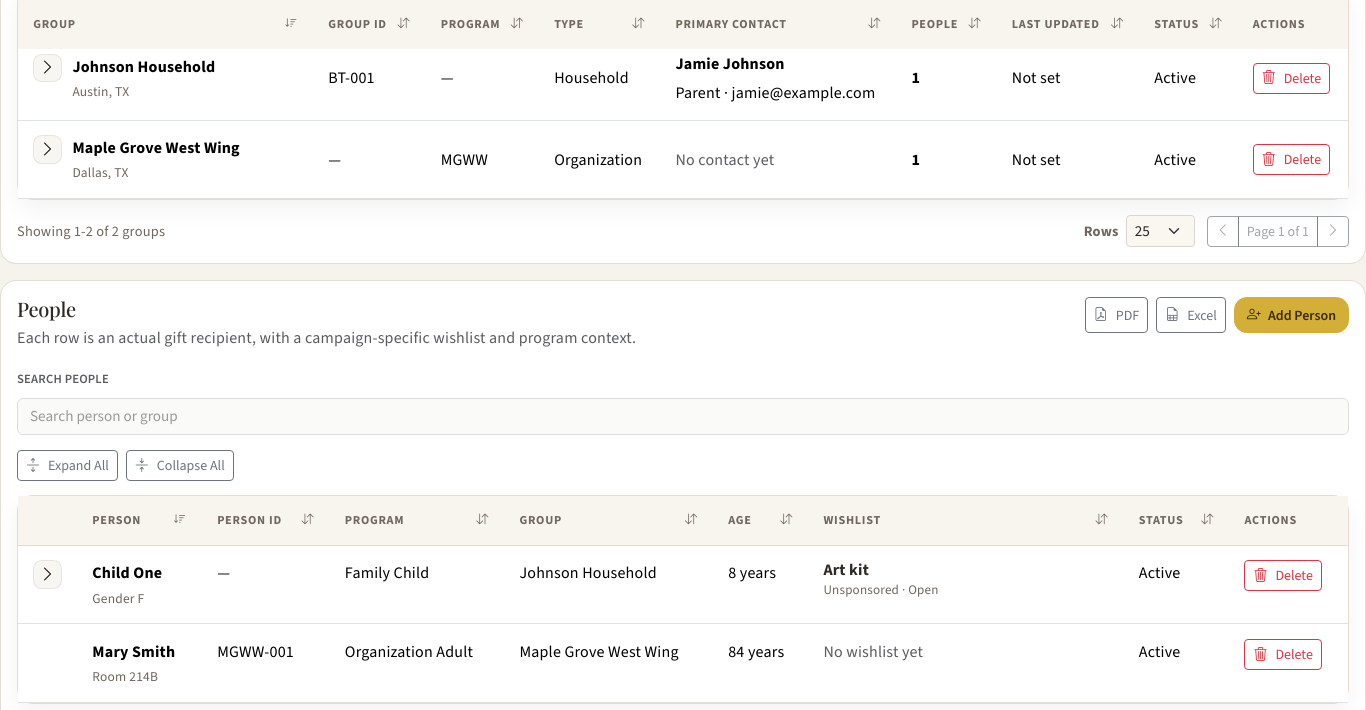
Test: CampaignPeopleWorkspace › lets directory users jump from a saved household child to add another child in the same family
(page scrolled)
Click the button that starts with "Child One" at (683, 585), box [18,545,1348,624]
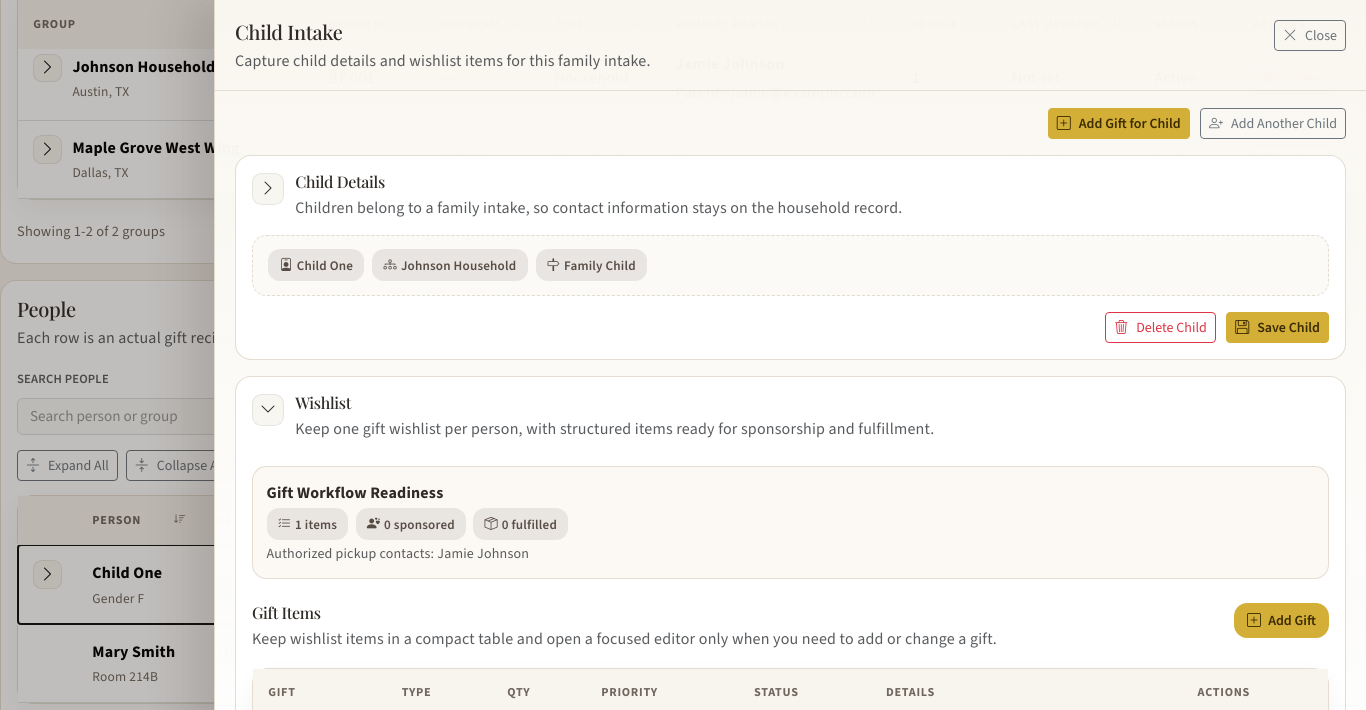
Click the button "Add Another Child" at (1273, 124), box [1200,108,1346,139]
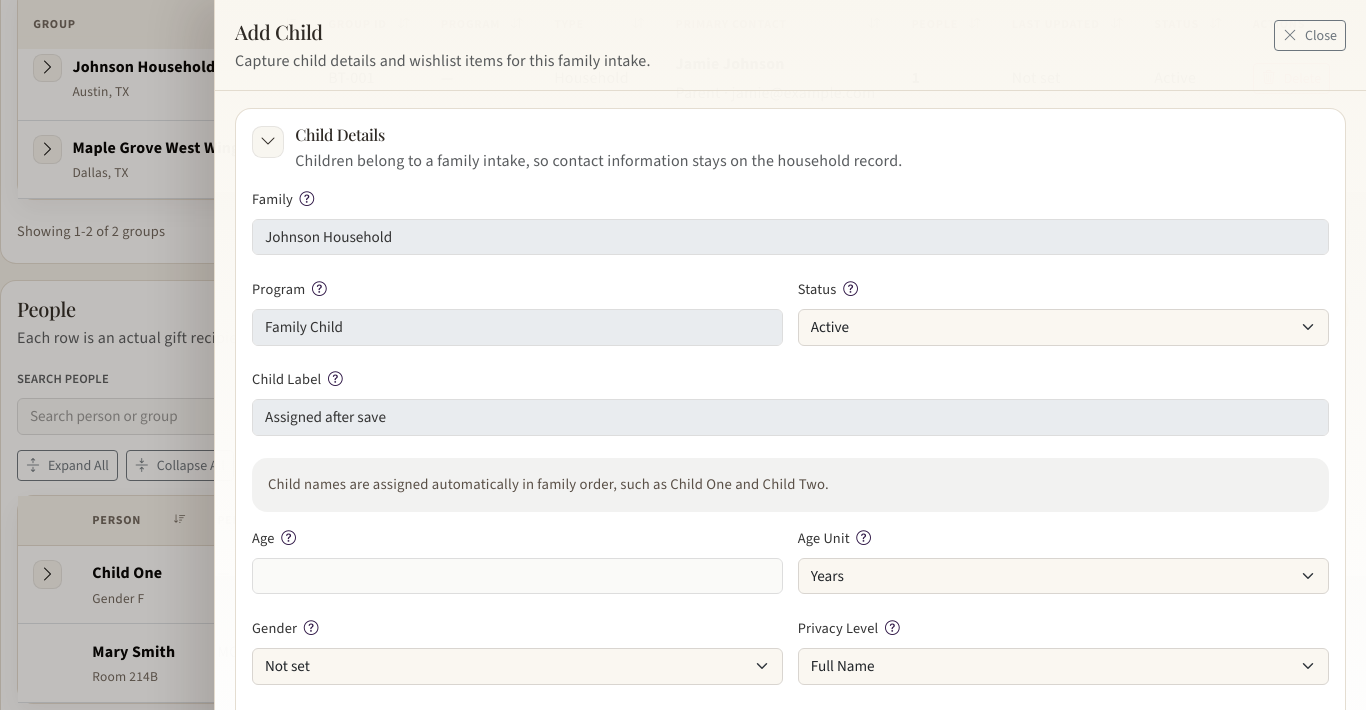
Result: the heading "Add Child" is shown at [235,18,323,45]
Result: the 1st field showing "Johnson Household" is shown at [252,219,1329,255]
Result: the field showing "Assigned after save" below "Child Label" is shown at [252,399,1329,436]
